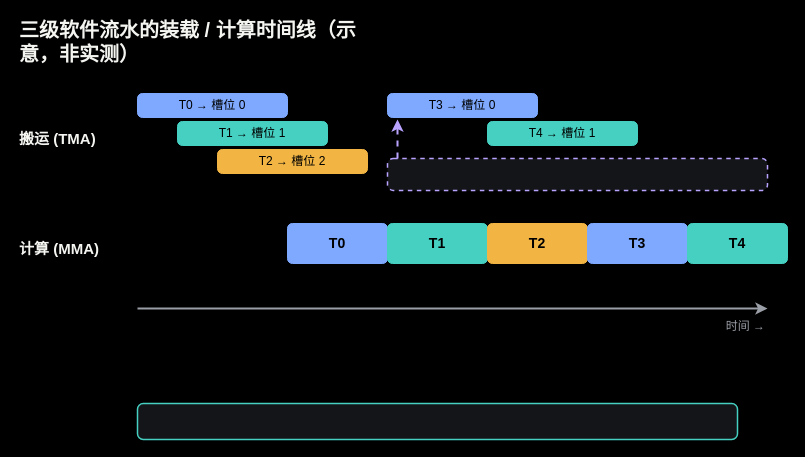
This 805x457 diagram has some shape labels left out. The shapes that lost their labels are listed below. From the top down, each one's centre as x and y in pixels, then its label:
At point (577, 174): "槽位 0 被第 0 块用完后才能装入第 3 块".
At point (437, 421): "三个槽位 ≠ 三组 warp，也不是三个 kernel".
